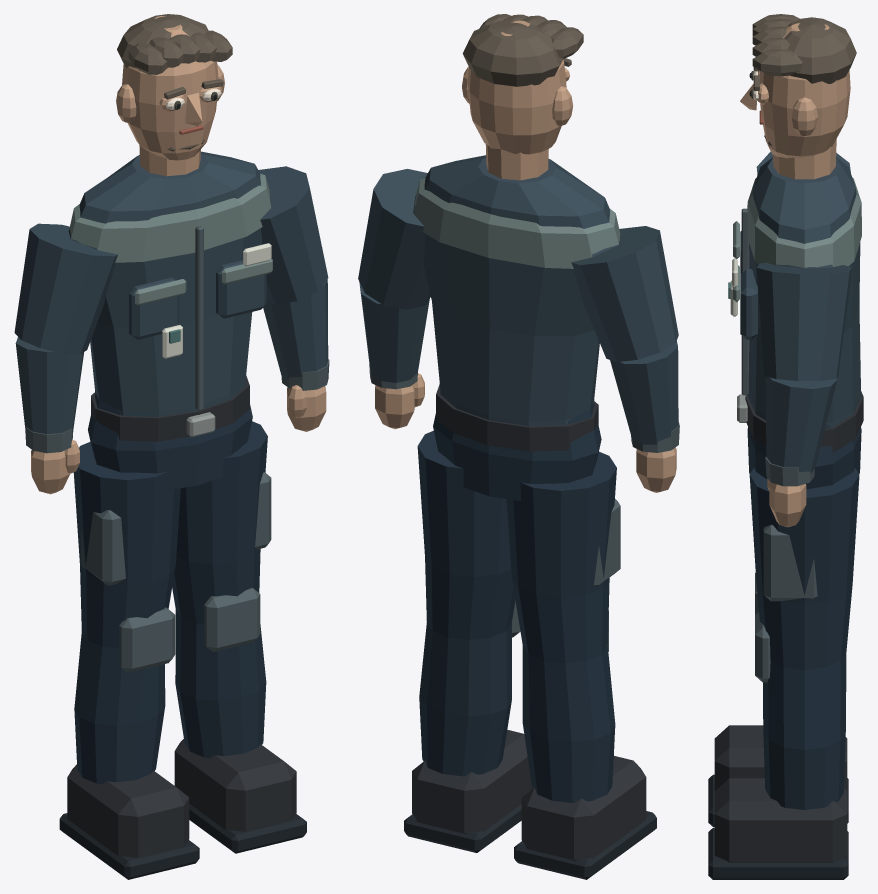
Rendered from Viktor.glb.
3 views of the same model, side by side, from view 1: azimuth 30°, elevation 25°; view 2: azimuth 150°, elevation 25°; view 3: azimuth 270°, elevation 25° (orthographic). The views are drawn at different scales.
Visible parts, largest first — view 1: Viktor; view 2: Viktor; view 3: Viktor.
Boxes of the visible parts, x1,y1,x2,y2 form: Viktor: [14, 14, 329, 879]; Viktor: [358, 14, 679, 879]; Viktor: [708, 14, 863, 879].
Bounding box in the file's own units: 0.7254 × 1.83 × 0.3176.
